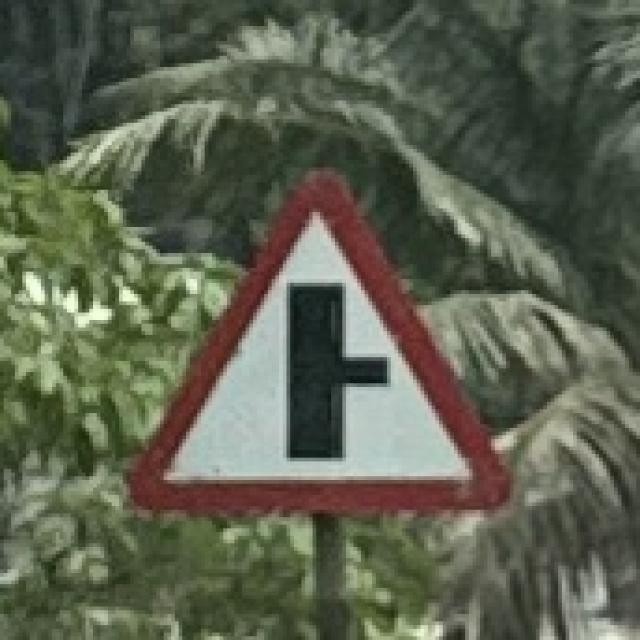SIDE_ROAD_RIGHT: (101, 162, 521, 524)
